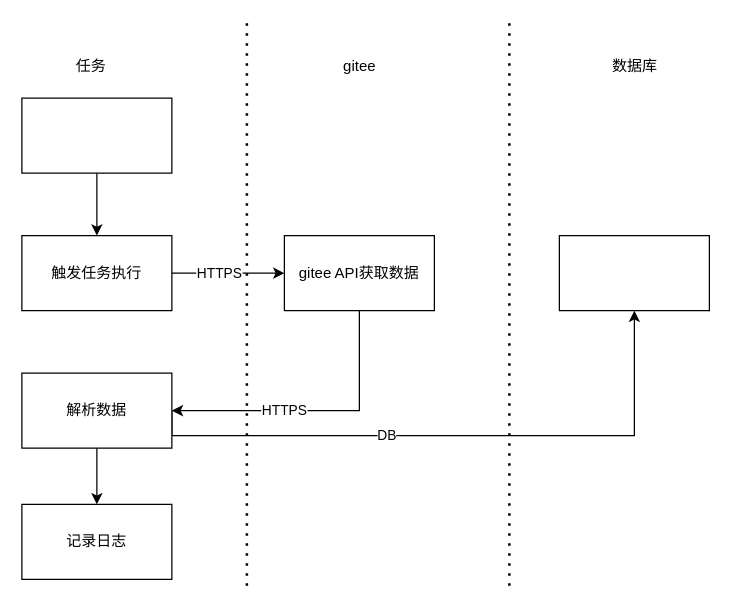
Image size: 731x609. Some labels were removed from this diagram. Here are the shapes that lost their labels. From the top down, the centre of each, then its label:
the point at 96,135: 任务配置
the point at 633,272: 储存或者更新记录
